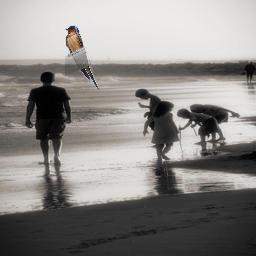Swallow: (65, 25, 99, 90)
